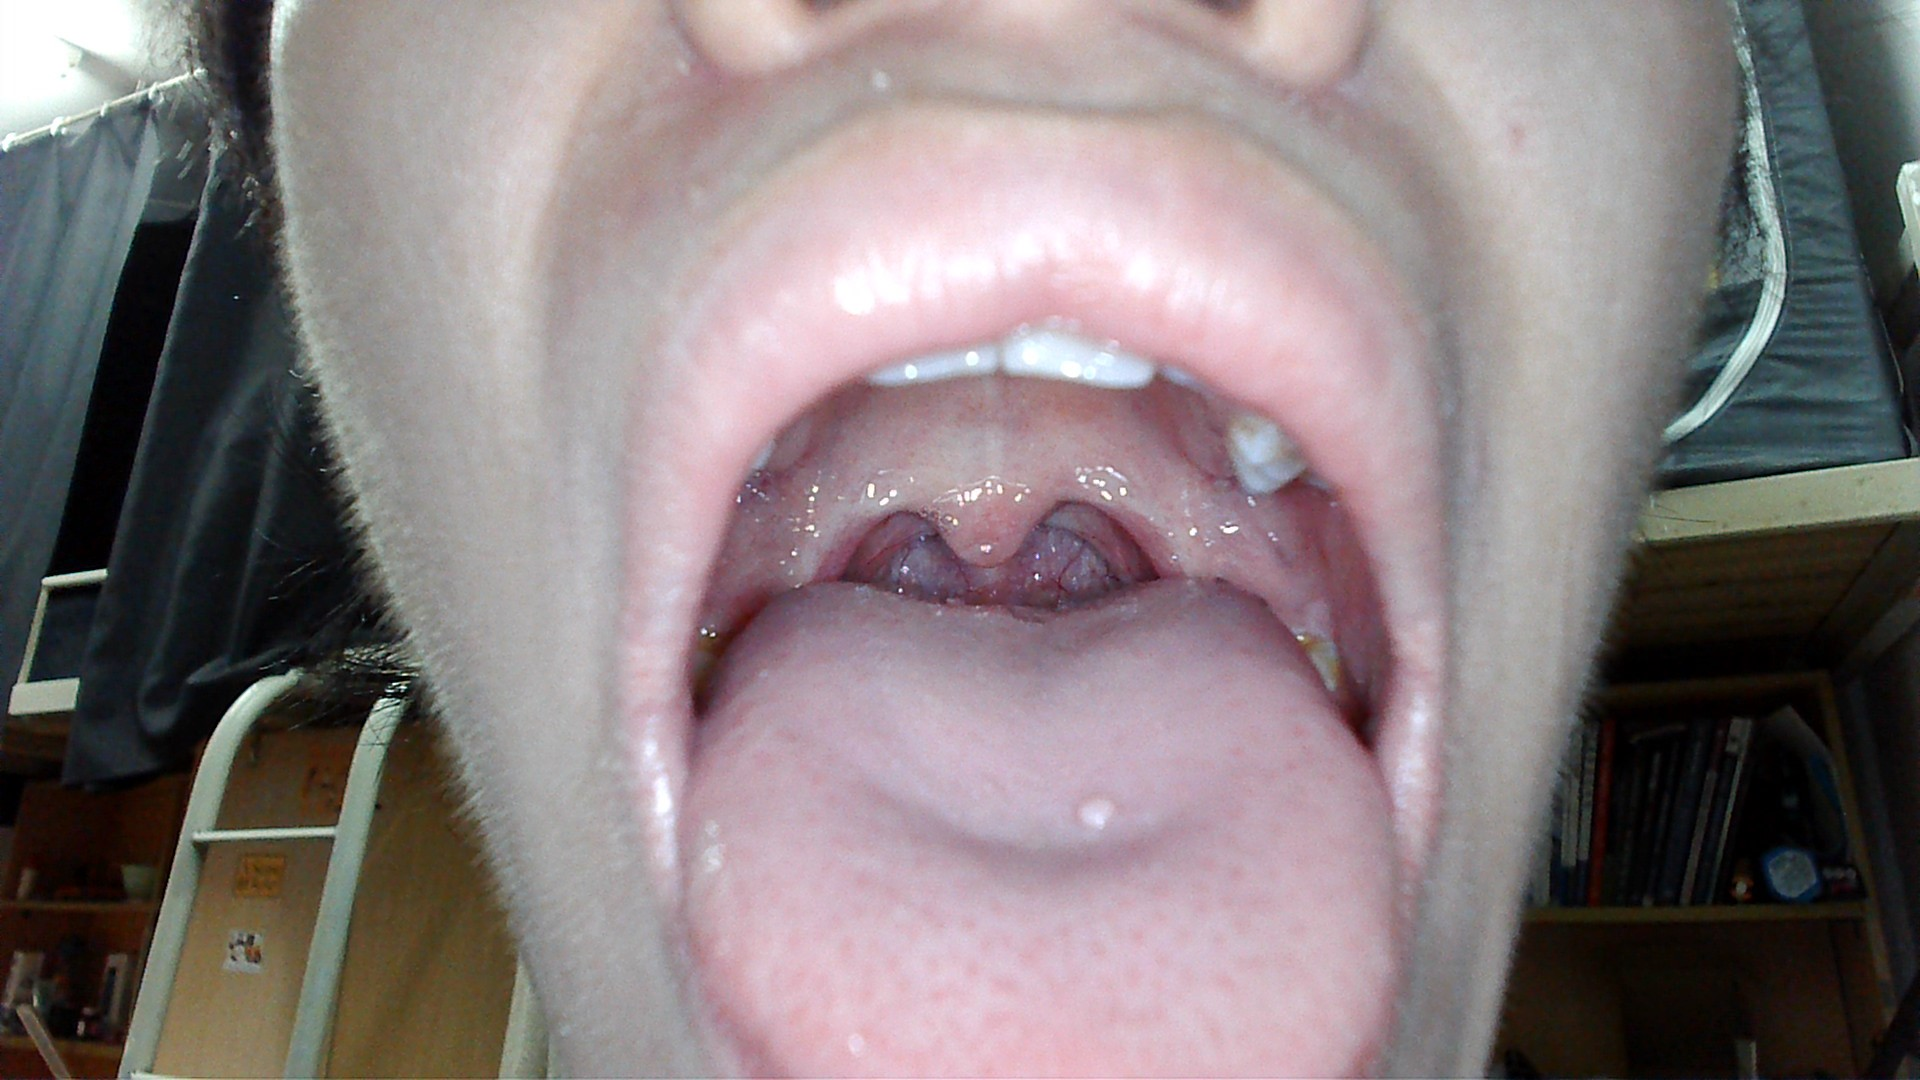throat: (1110, 492, 1182, 576), (806, 504, 870, 576)
